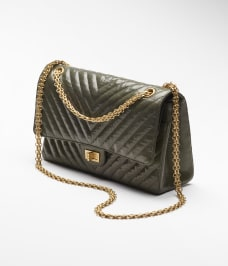channel: (18, 46, 205, 213), (32, 63, 66, 158), (162, 83, 192, 188)
